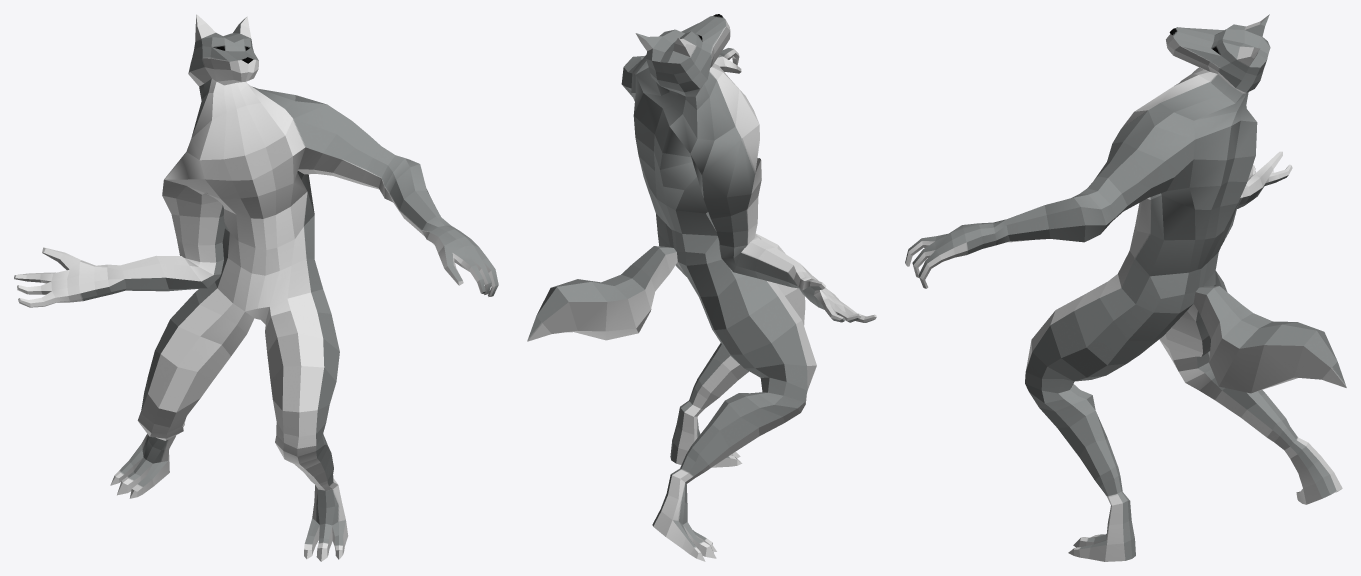
The model's file is WolfDead(9).obj.
3 renders of one model, left to right at view 1: azimuth 30°, elevation 25°; view 2: azimuth 150°, elevation 25°; view 3: azimuth 270°, elevation 25°, orthographic. The views are drawn at different scales.
Visible parts, largest first — view 1: Box001; view 2: Box001; view 3: Box001.
Boxes of the visible parts, left/top/right/bottom form: Box001: left=14, top=14, right=498, bottom=561; Box001: left=527, top=14, right=876, bottom=561; Box001: left=905, top=14, right=1346, bottom=561.
Bounding box in the file's own units: 99.79 × 143 × 111.
